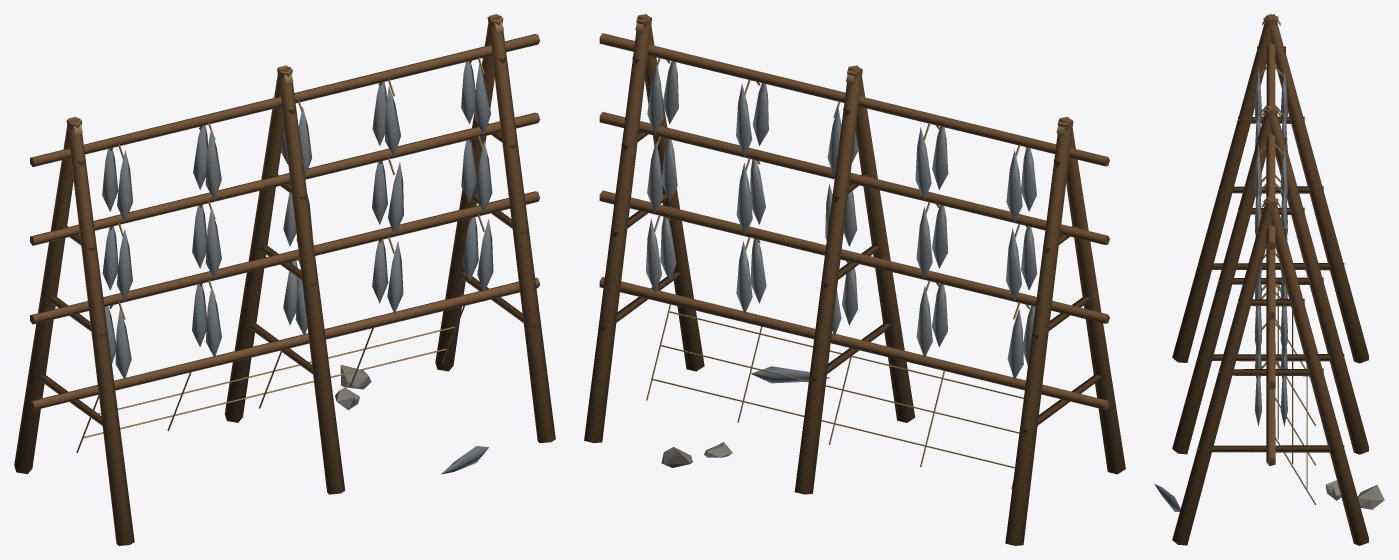
File: fish-drying-rack.glb
3 views of the same model, side by side, from view 1: azimuth 30°, elevation 25°; view 2: azimuth 150°, elevation 25°; view 3: azimuth 270°, elevation 25° (orthographic). The views are drawn at different scales.
Parts seen in each view (by area): view 1: fish_drying_rack; view 2: fish_drying_rack; view 3: fish_drying_rack.
Part boxes in pixels (x1,y1,x2,y2): fish_drying_rack: [14, 14, 555, 545]; fish_drying_rack: [584, 14, 1125, 545]; fish_drying_rack: [1154, 14, 1384, 545].
Size of the model in its own units: 3.6 by 2.66 by 1.6.
